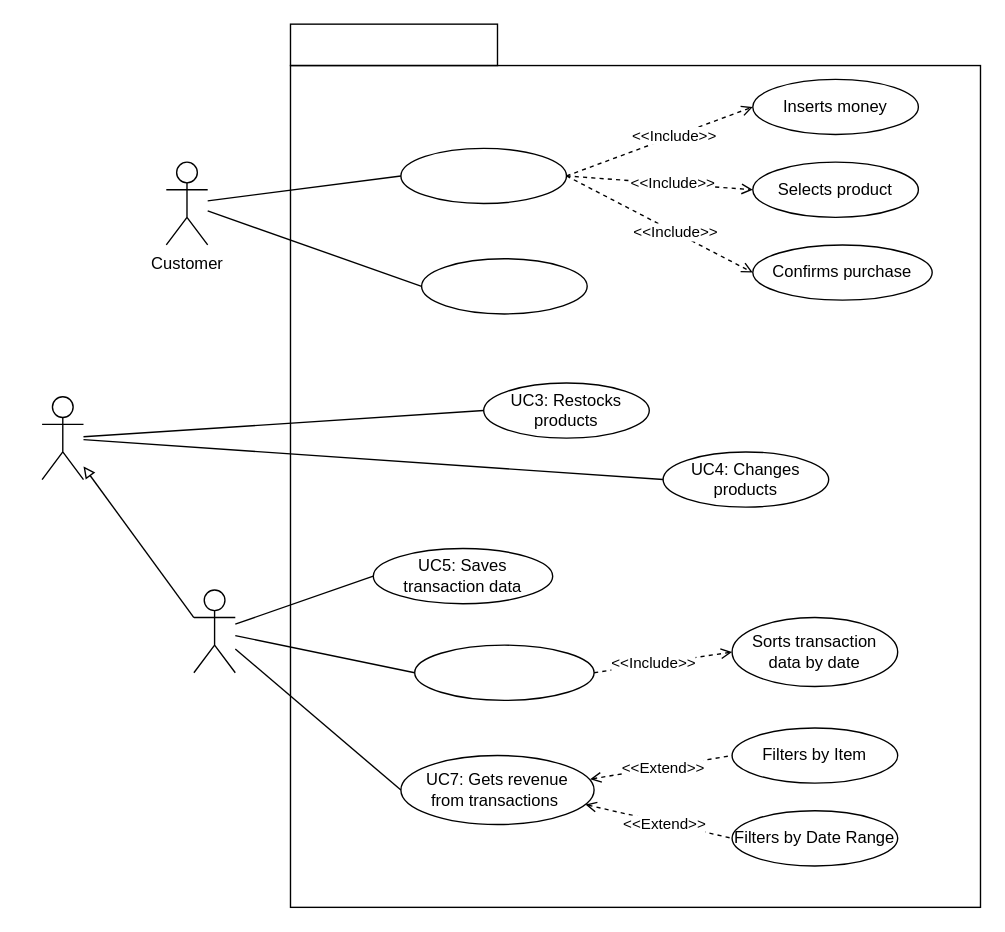
This 1005x932 diagram has some shape labels left out. Here are the shapes that lost their labels. From the top down, the box of each, then its label:
(289, 23, 497, 66): Vending Machine System
(400, 147, 566, 204): UC1: Purchases products
(420, 257, 587, 314): UC2: Returns change
(41, 395, 83, 480): Technician
(193, 589, 235, 673): Owner
(413, 644, 594, 700): UC6: Loads transaction data
